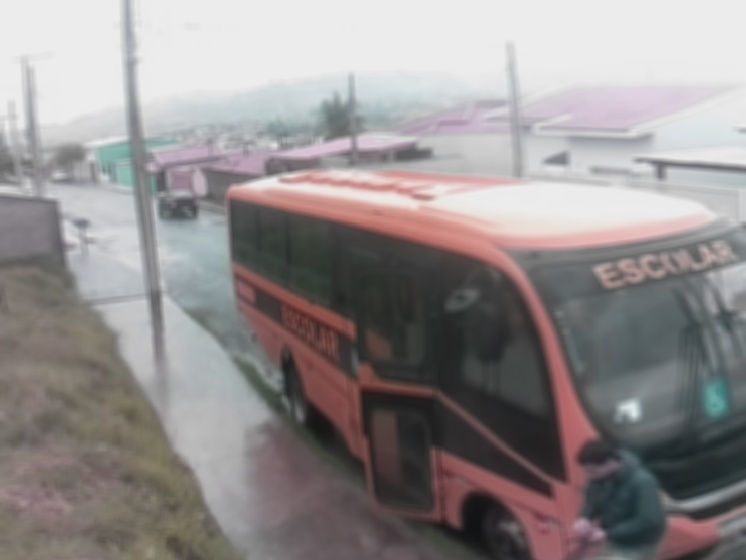person: (570, 435, 670, 560)
